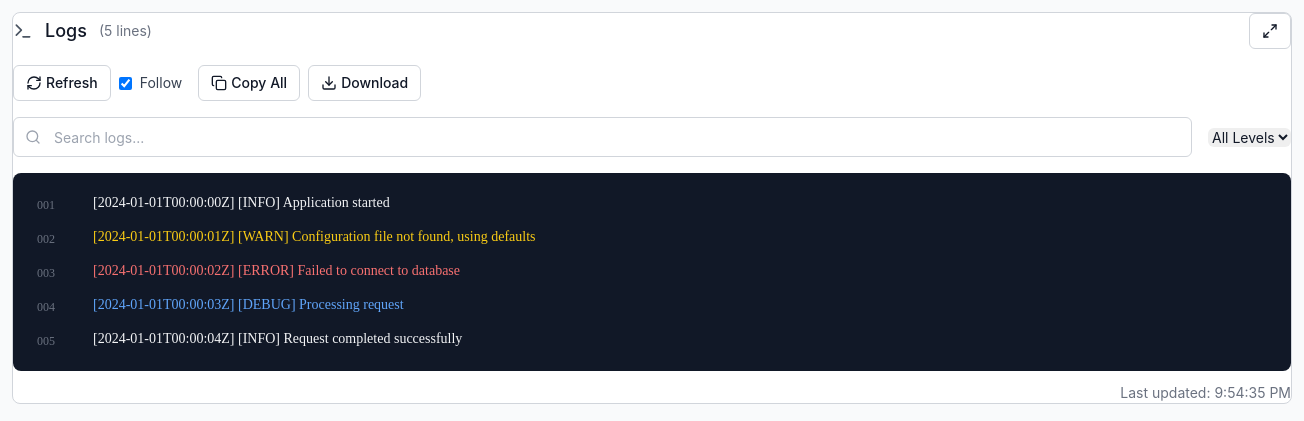
LogViewer › filters logs by search query
The image size is (1304, 421).
Type "ERROR" into the field with placeholder "Search logs..." at (602, 137), box [13,117,1192,157]
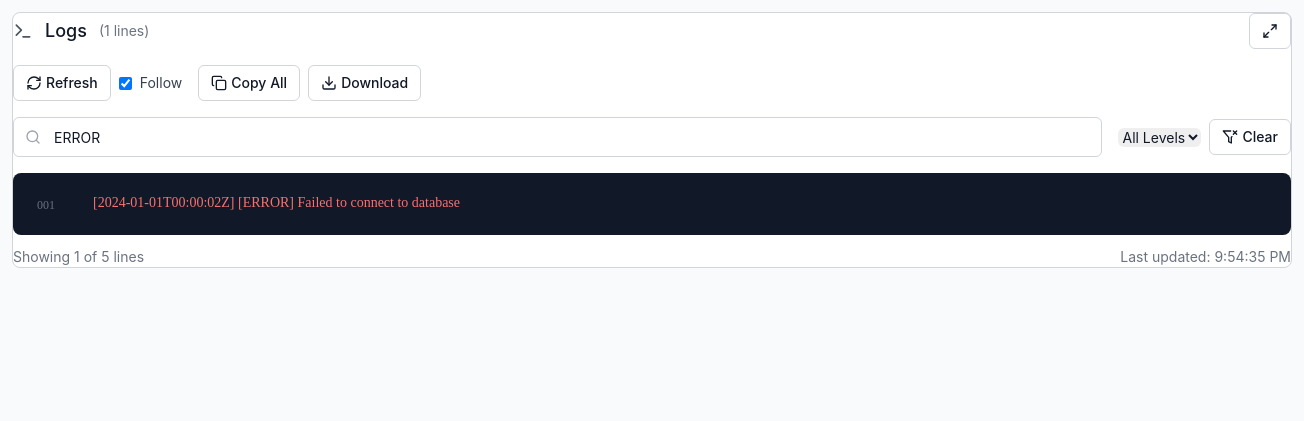
Now the text "[2024-01-01T00:00:02Z] [ERROR] Failed to connect to database" is shown, box [93,195,460,210]
Now the text "Application started" is gone
